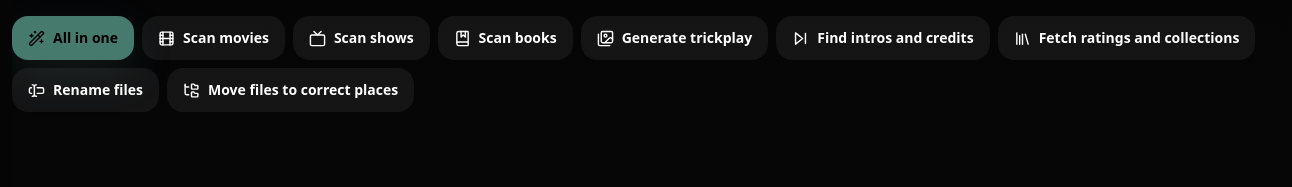
the Library Maintenance action group › reports an empty category honestly rather than as a failure
Click the button "Scan books".
click(505, 38)  # box x1=438 y1=16 x2=573 y2=60
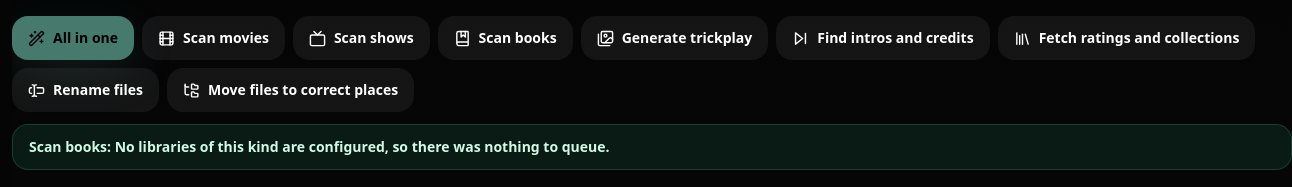
Now the message shows "No libraries of this kind are configured, so there was nothing to queue.", box x1=29 y1=137 x2=610 y2=156
